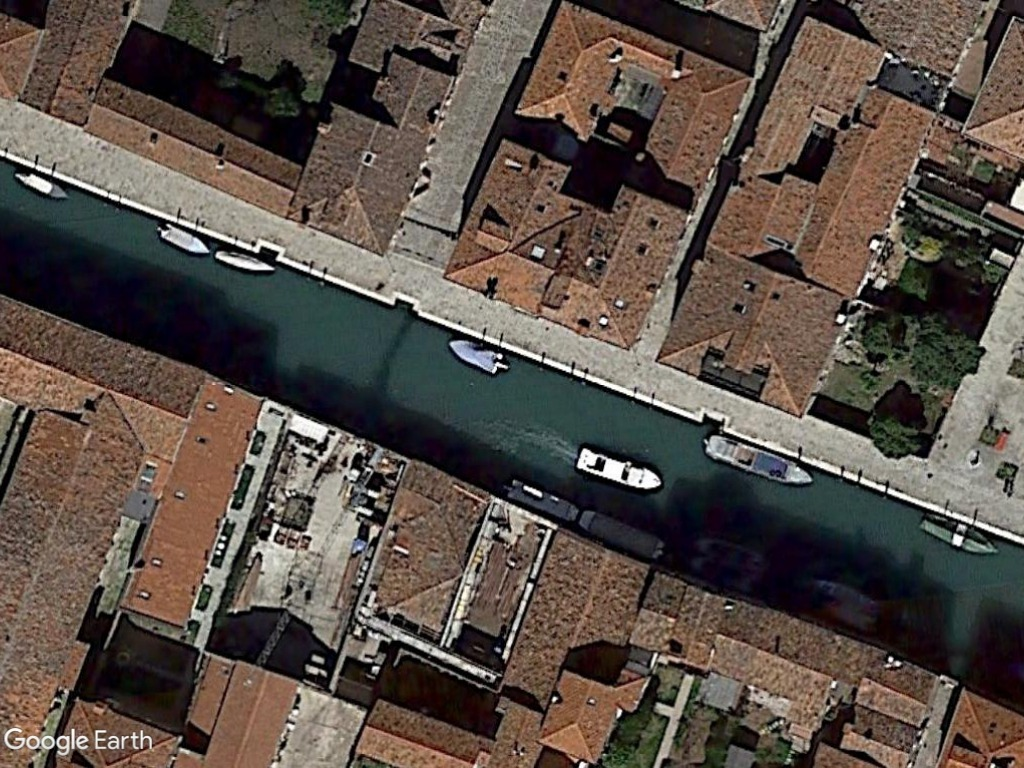boat: (699, 430, 817, 489), (576, 504, 670, 566), (570, 442, 665, 496), (916, 510, 1001, 560), (503, 474, 580, 526), (441, 332, 512, 380), (152, 218, 214, 259), (210, 239, 276, 276), (9, 167, 71, 202)
